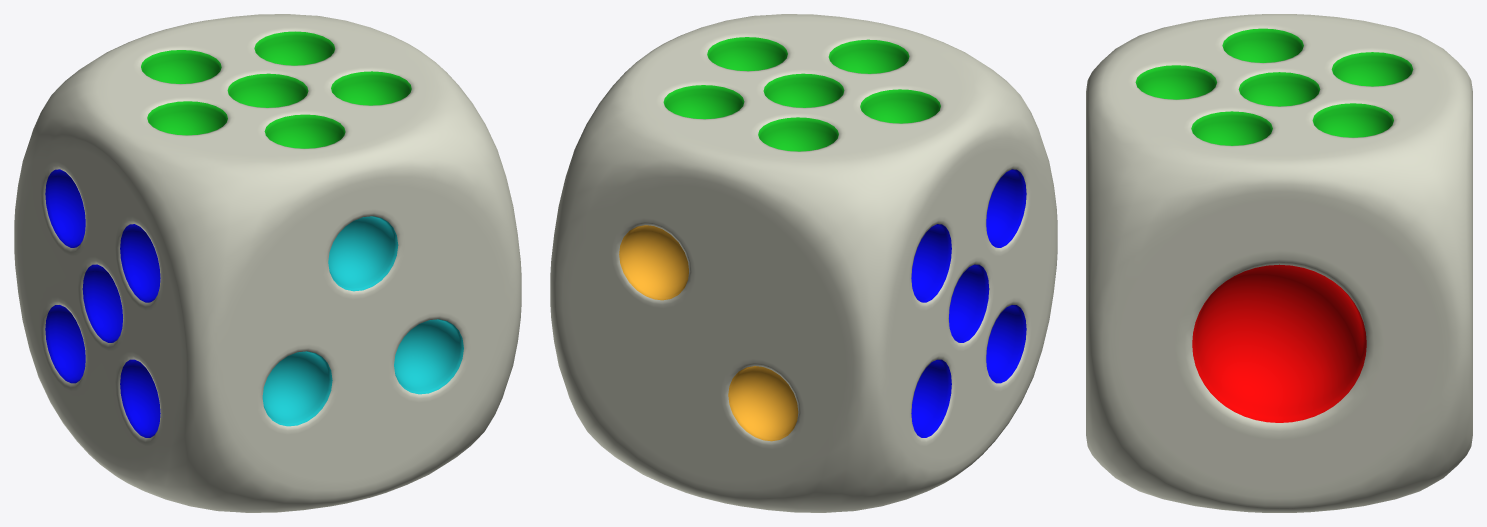
The model's file is DiceT6.glb.
3 renders of one model, left to right at view 1: azimuth 30°, elevation 25°; view 2: azimuth 150°, elevation 25°; view 3: azimuth 270°, elevation 25°, orthographic.
Visible parts, largest first — view 1: Dice; view 2: Dice; view 3: Dice.
Part boxes in pixels (x1=…): Dice: x1=14, y1=14, x2=521, y2=512; Dice: x1=550, y1=14, x2=1057, y2=512; Dice: x1=1086, y1=14, x2=1472, y2=512.
Bounding box in the file's own units: 0.5001 × 0.5 × 0.5.
